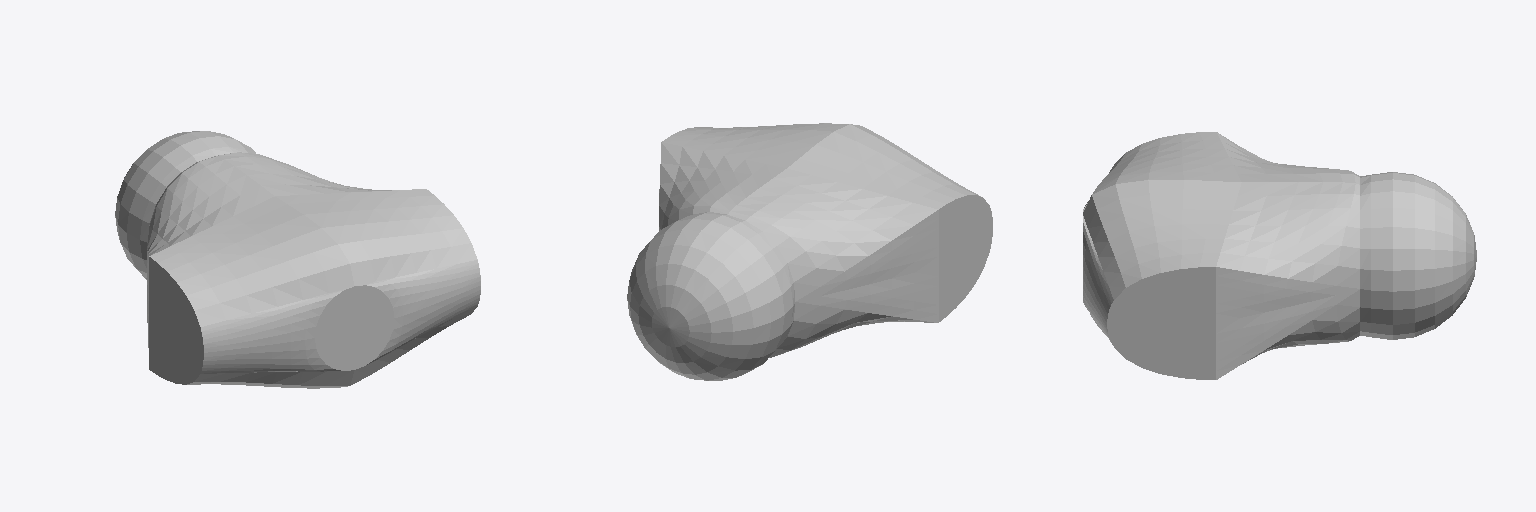
The model's file is torso.obj.
3 views of the same model, side by side, from view 1: azimuth 30°, elevation 25°; view 2: azimuth 150°, elevation 25°; view 3: azimuth 270°, elevation 25° (orthographic).
Visible parts, largest first — view 1: node_shape0.001; view 2: node_shape0.001; view 3: node_shape0.001.
Part boxes in pixels (left/top/right/bottom): node_shape0.001: left=115, top=131, right=480, bottom=388; node_shape0.001: left=627, top=123, right=992, bottom=380; node_shape0.001: left=1083, top=132, right=1476, bottom=379.
Bounding box in the file's own units: 0.0043 × 0.0023 × 0.0053.